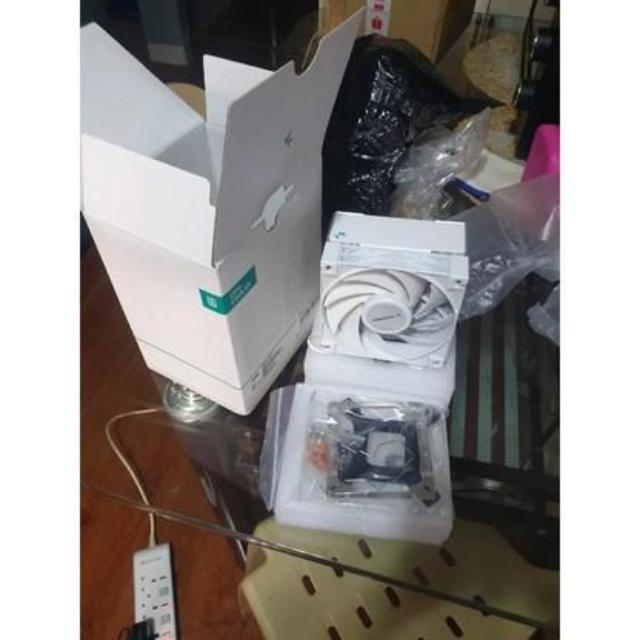CPU_Fan: (316, 208, 470, 372)
